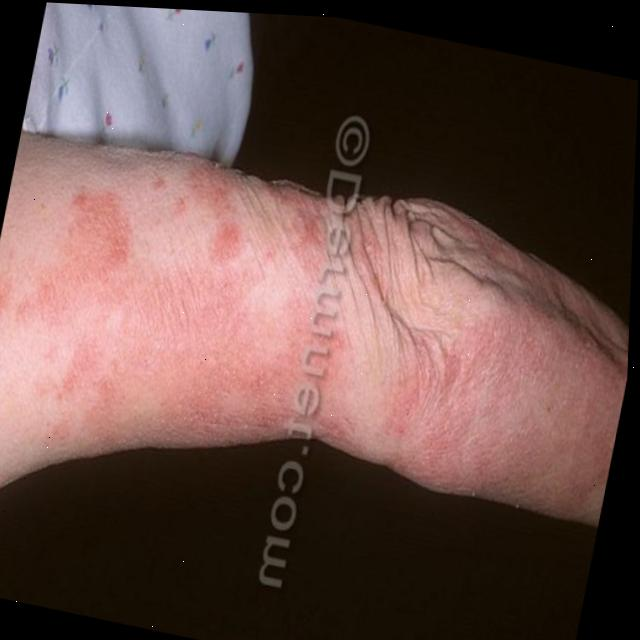Eczema: (0, 171, 336, 463)
